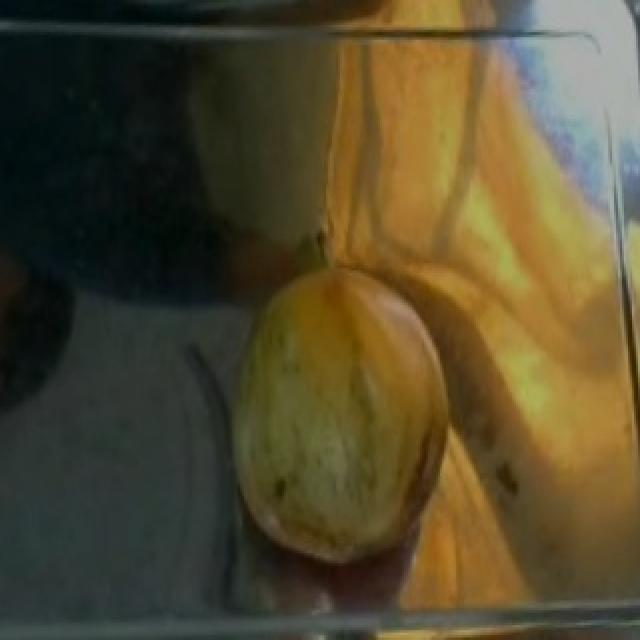fruit: (202, 345, 464, 595)
